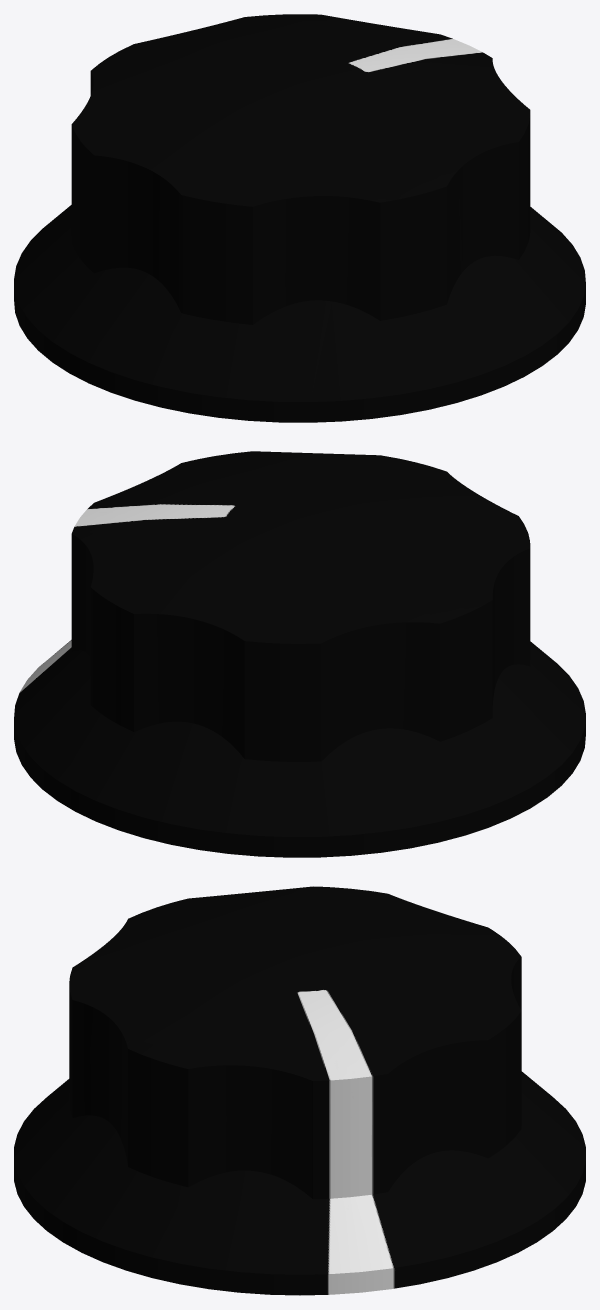
The model's file is currentKnob.glb.
3 views of the same model, one above another, from view 1: azimuth 30°, elevation 25°; view 2: azimuth 150°, elevation 25°; view 3: azimuth 270°, elevation 25° (orthographic).
Visible parts, largest first — view 1: stlKnob_autouv; view 2: stlKnob_autouv; view 3: stlKnob_autouv.
Part boxes in pixels (<box>): stlKnob_autouv: <box>14,14,585,422</box>; stlKnob_autouv: <box>14,451,585,857</box>; stlKnob_autouv: <box>14,886,585,1295</box>.
Bounding box in the file's own units: 31.9 × 13.37 × 31.85.
Materials: 1 (1 with a texture image).
